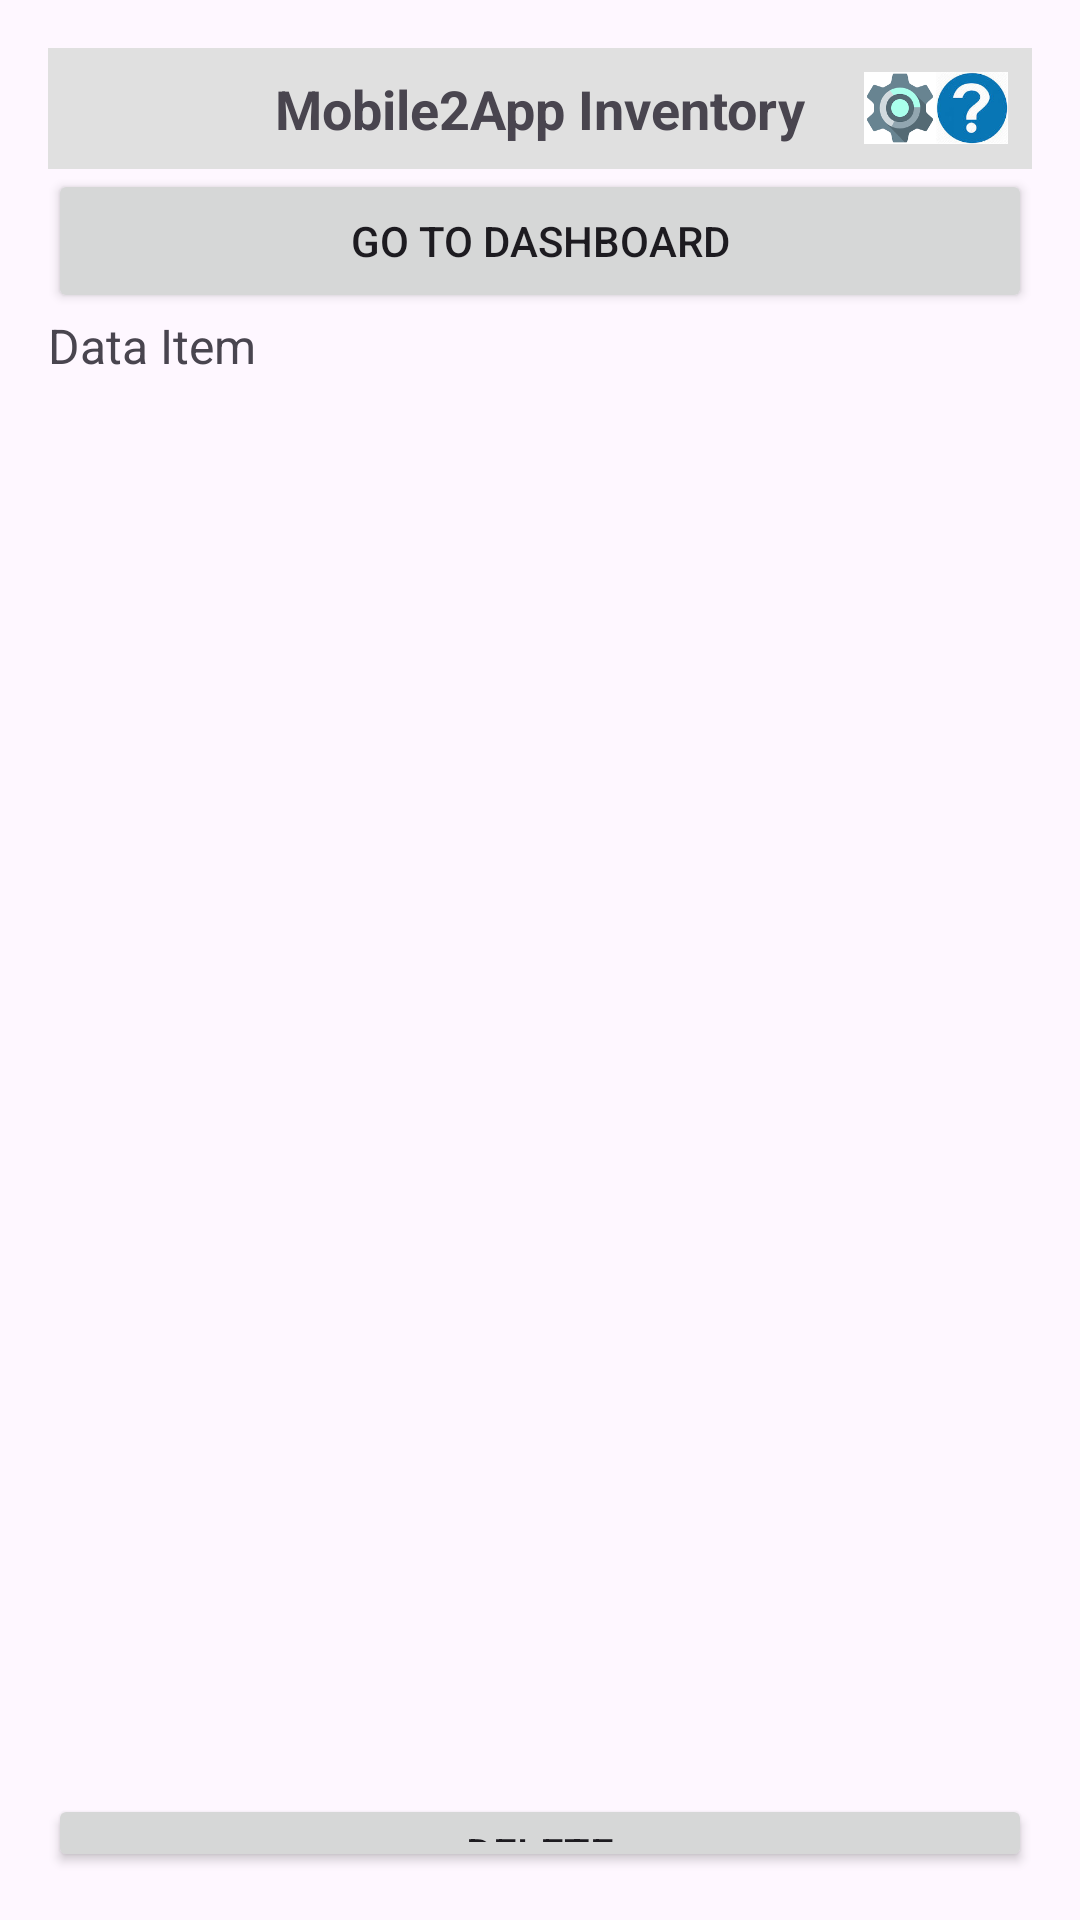

Screen size 1080px x 1920px. Icon name, then its center in pixels as [x,y]:
help: [972,108]
settings: [900,108]
